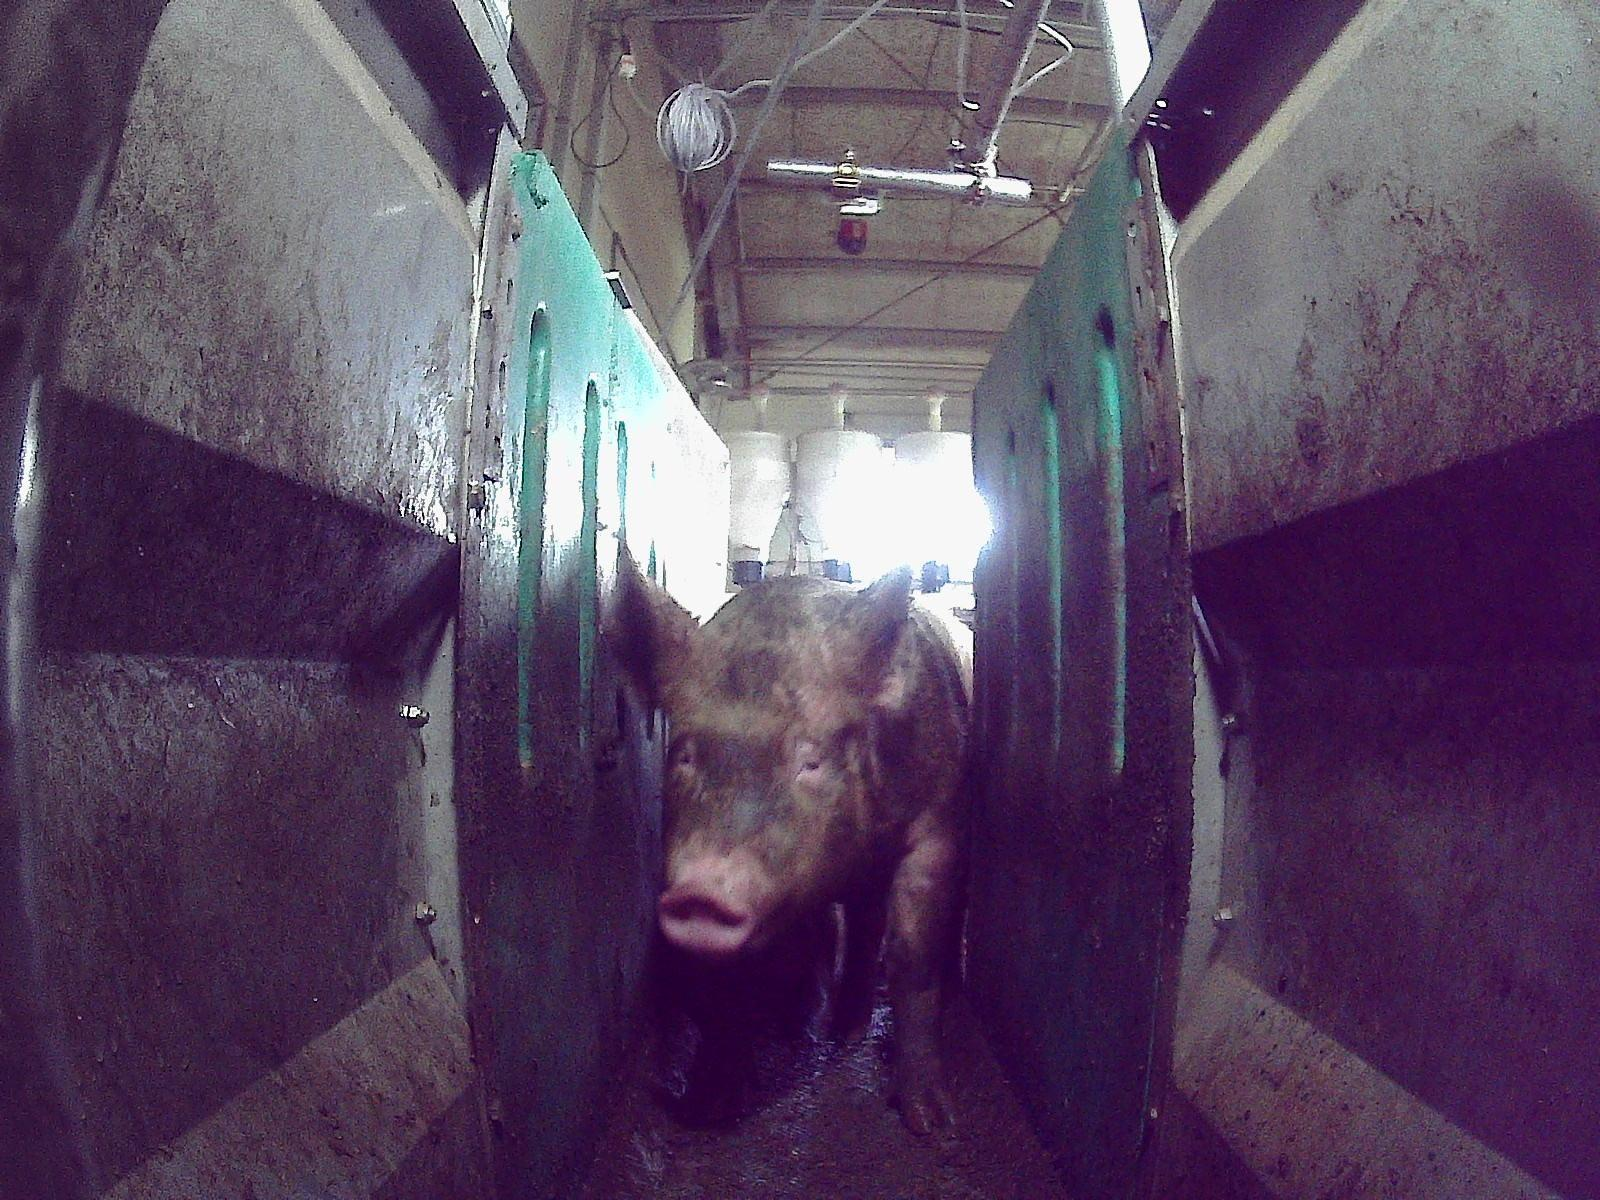Face: (658, 613, 891, 966)
